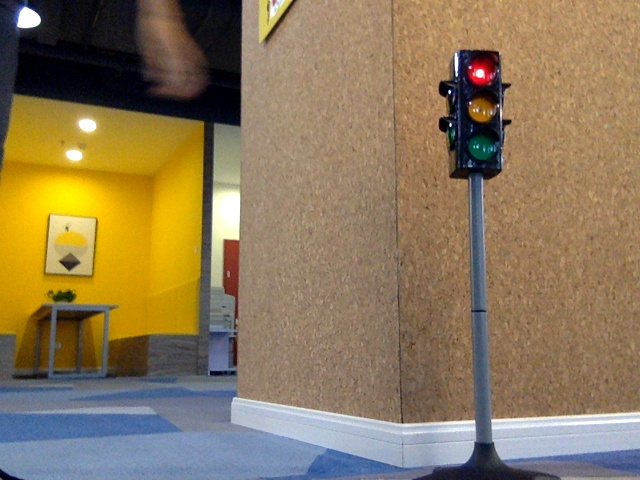red: (461, 56, 499, 167)
